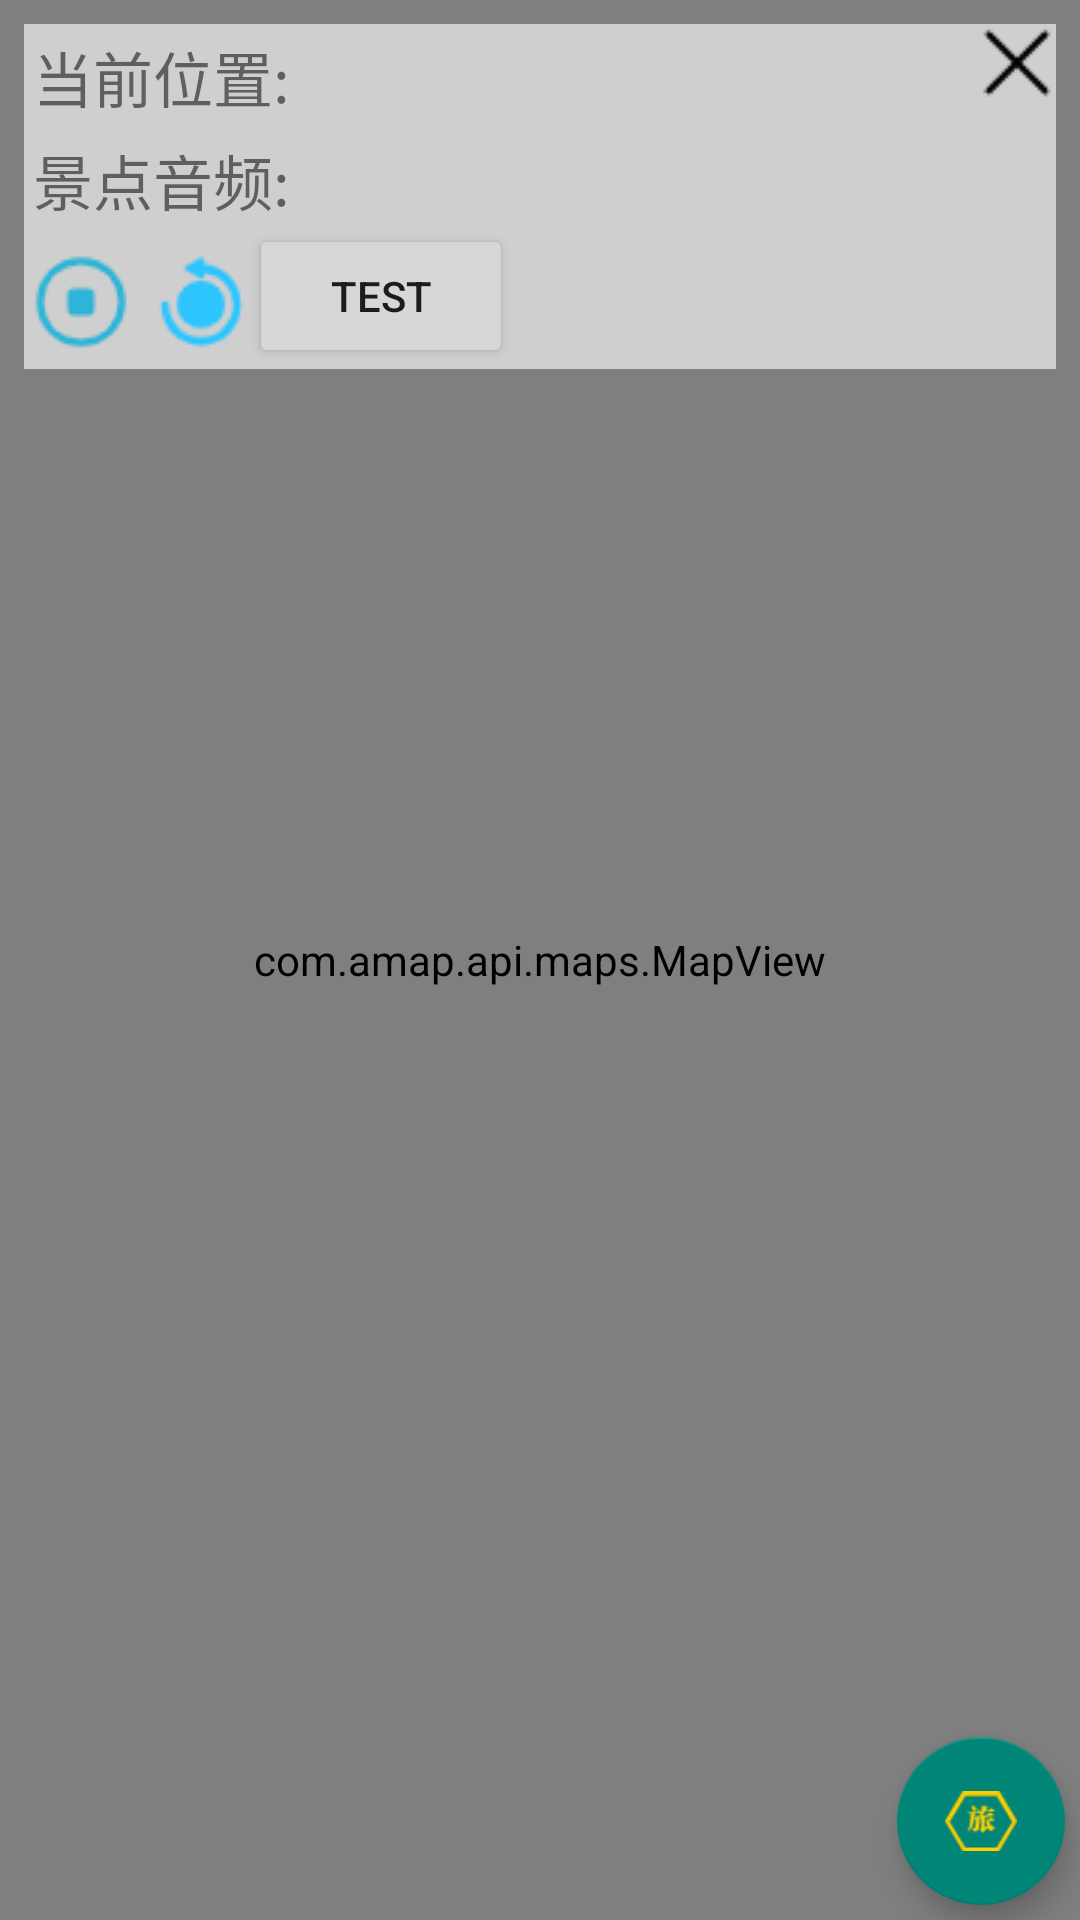

Where to tap for icons on this 1080*1920 app screen, as (x=x, y=y):
travel stop: (x=81, y=302)
